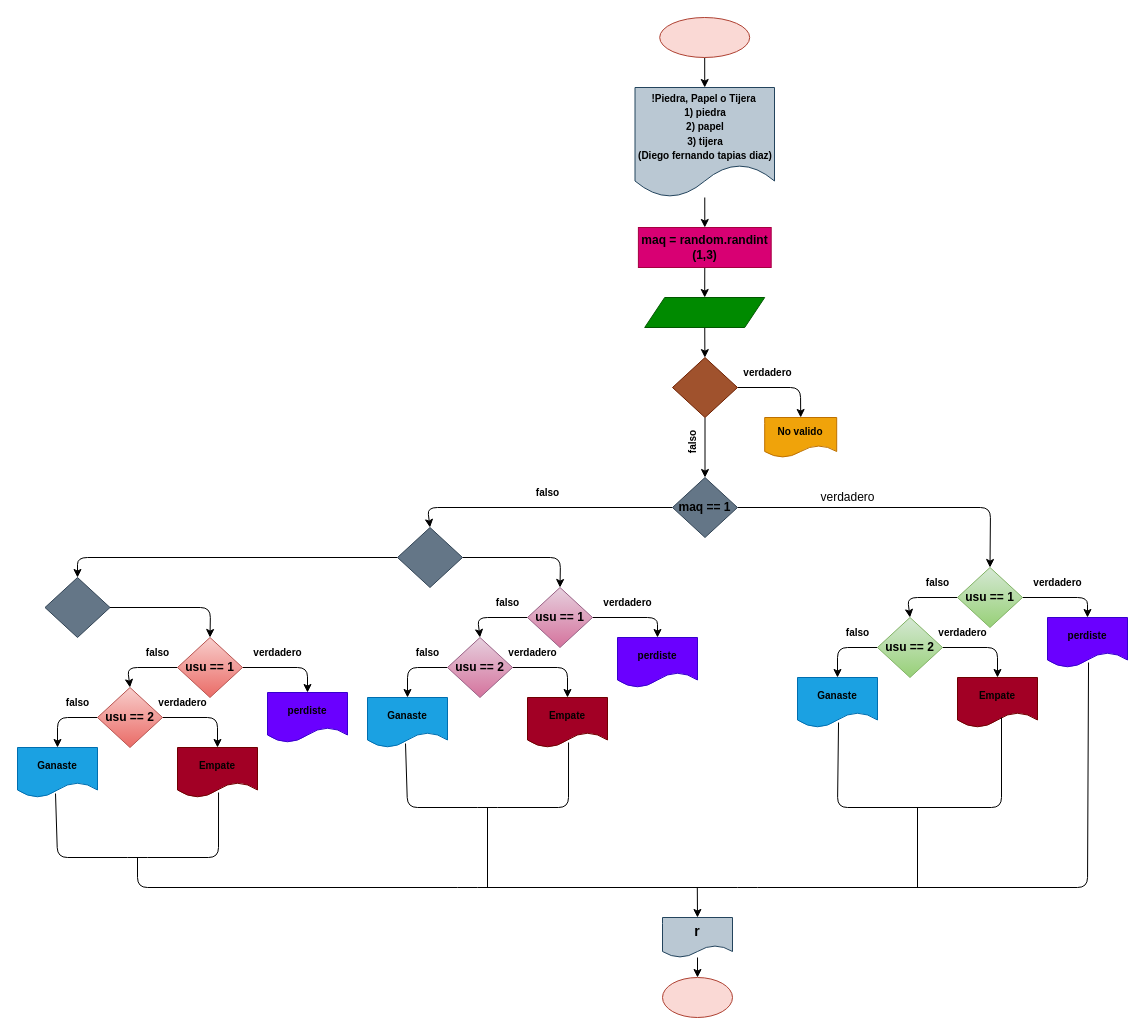
Image size: 1145x1035. Some labels were removed from this diagram. Each missing label, with the centre of its shape:
"fin" goes at (697,997).
"inicio" goes at (704,37).
"maq == 2" goes at (429,557).
"maq == 3" goes at (77,607).
"usu" goes at (704,312).
"usu <= 3" goes at (705,387).
